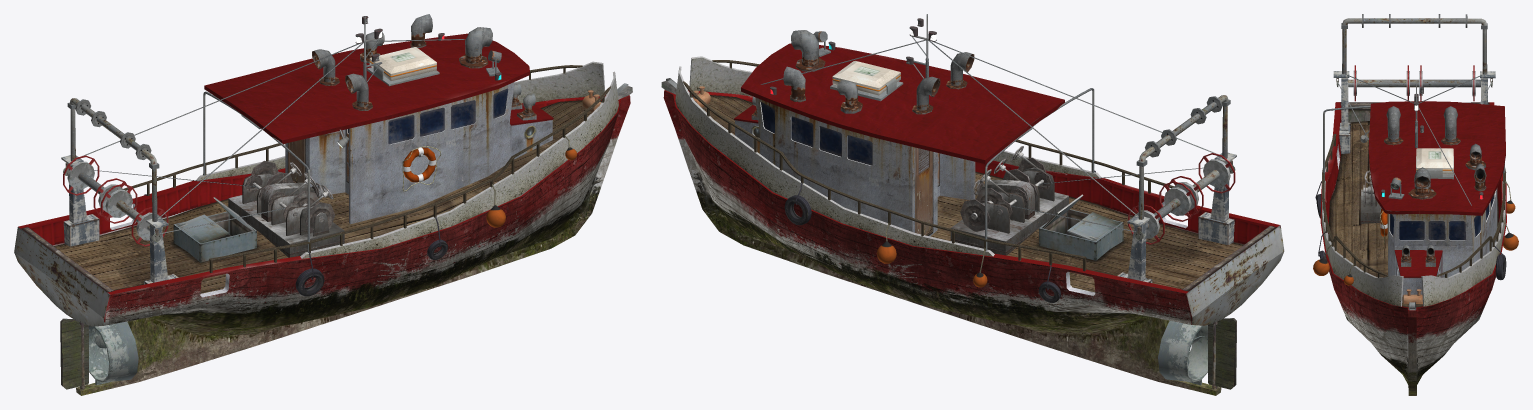
The model's file is fishboat.FBX.
3 views of the same model, side by side, from view 1: azimuth 30°, elevation 25°; view 2: azimuth 150°, elevation 25°; view 3: azimuth 270°, elevation 25° (orthographic). The views are drawn at different scales.
Parts seen in each view (by area): view 1: bateau_peche, lumieres; view 2: bateau_peche, lumieres; view 3: bateau_peche, lumieres.
Boxes of the visible parts, bbox=[...] form: bateau_peche: bbox=[14, 14, 632, 395]; lumieres: bbox=[241, 16, 501, 147]; bateau_peche: bbox=[661, 14, 1284, 395]; lumieres: bbox=[770, 18, 1032, 141]; bateau_peche: bbox=[1313, 14, 1518, 395]; lumieres: bbox=[1360, 86, 1483, 199].
Size of the model in its own units: 1314 by 675 by 480.
